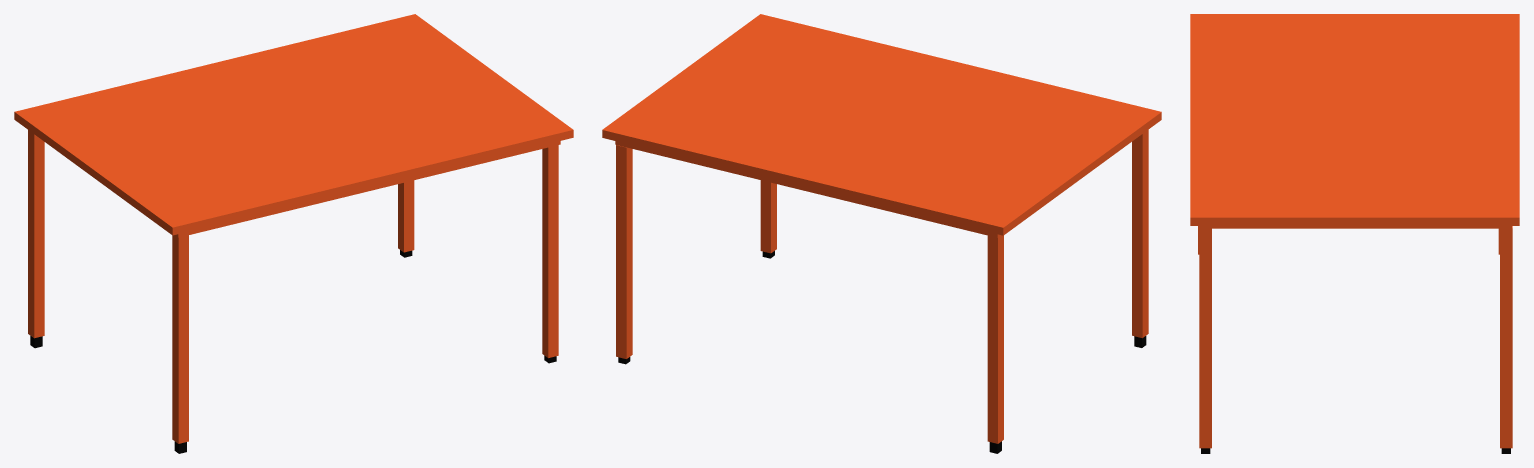
File: real wooden table.fbx
3 views of the same model, side by side, from view 1: azimuth 30°, elevation 25°; view 2: azimuth 150°, elevation 25°; view 3: azimuth 270°, elevation 25° (orthographic). The views are drawn at different scales.
Parts seen in each view (by area): view 1: Cube.001, Cube.006; view 2: Cube.001, Cube.006; view 3: Cube.001, Cube.006.
Part boxes in pixels (x1,y1,x2,y2): Cube.001: (14, 14, 573, 235); Cube.006: (28, 130, 560, 443); Cube.001: (602, 14, 1161, 235); Cube.006: (615, 129, 1148, 443); Cube.001: (1190, 14, 1519, 225); Cube.006: (1198, 226, 1512, 448).
Bounding box in the file's own units: 1653 × 917 × 1130.
